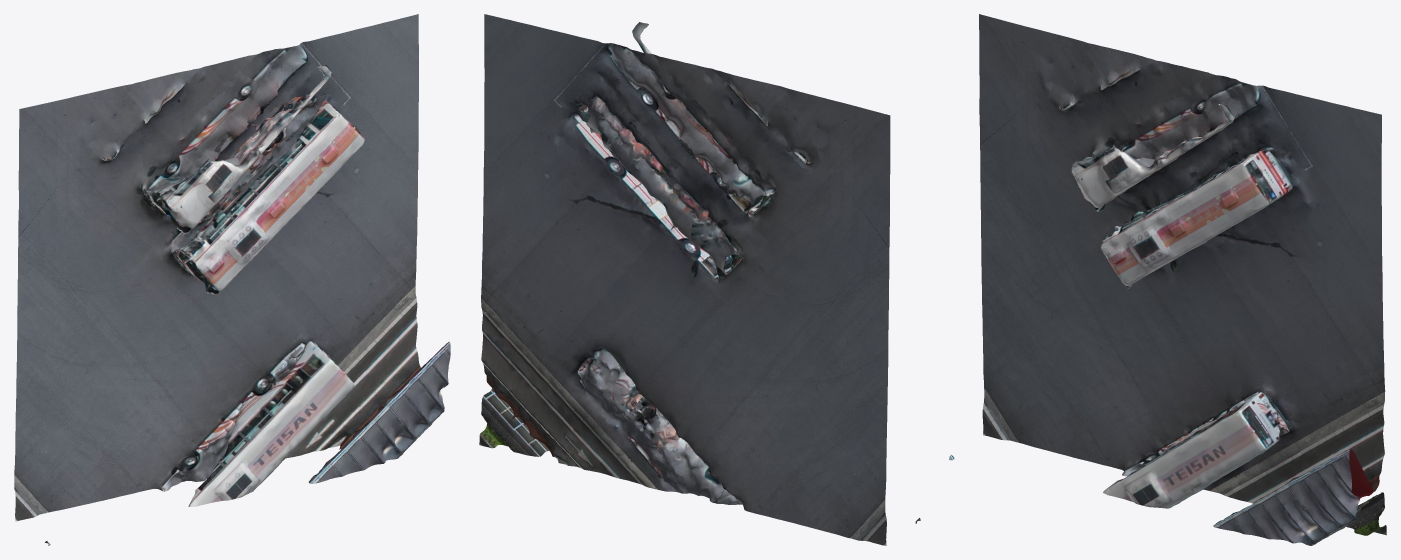
Rendered from Tile_+017_+021.fbx.
3 renders of one model, left to right at view 1: azimuth 30°, elevation 25°; view 2: azimuth 150°, elevation 25°; view 3: azimuth 330°, elevation 25°, orthographic. The views are drawn at different scales.
Visible parts, largest first — view 1: DefaultName; view 2: DefaultName; view 3: DefaultName.
Part boxes in pixels (left/top/right/bottom): DefaultName: left=14, top=14, right=450, bottom=545; DefaultName: left=479, top=14, right=920, bottom=545; DefaultName: left=949, top=14, right=1386, bottom=545.
Bounding box in the file's own units: 22.54 × 22.54 × 3.91.
